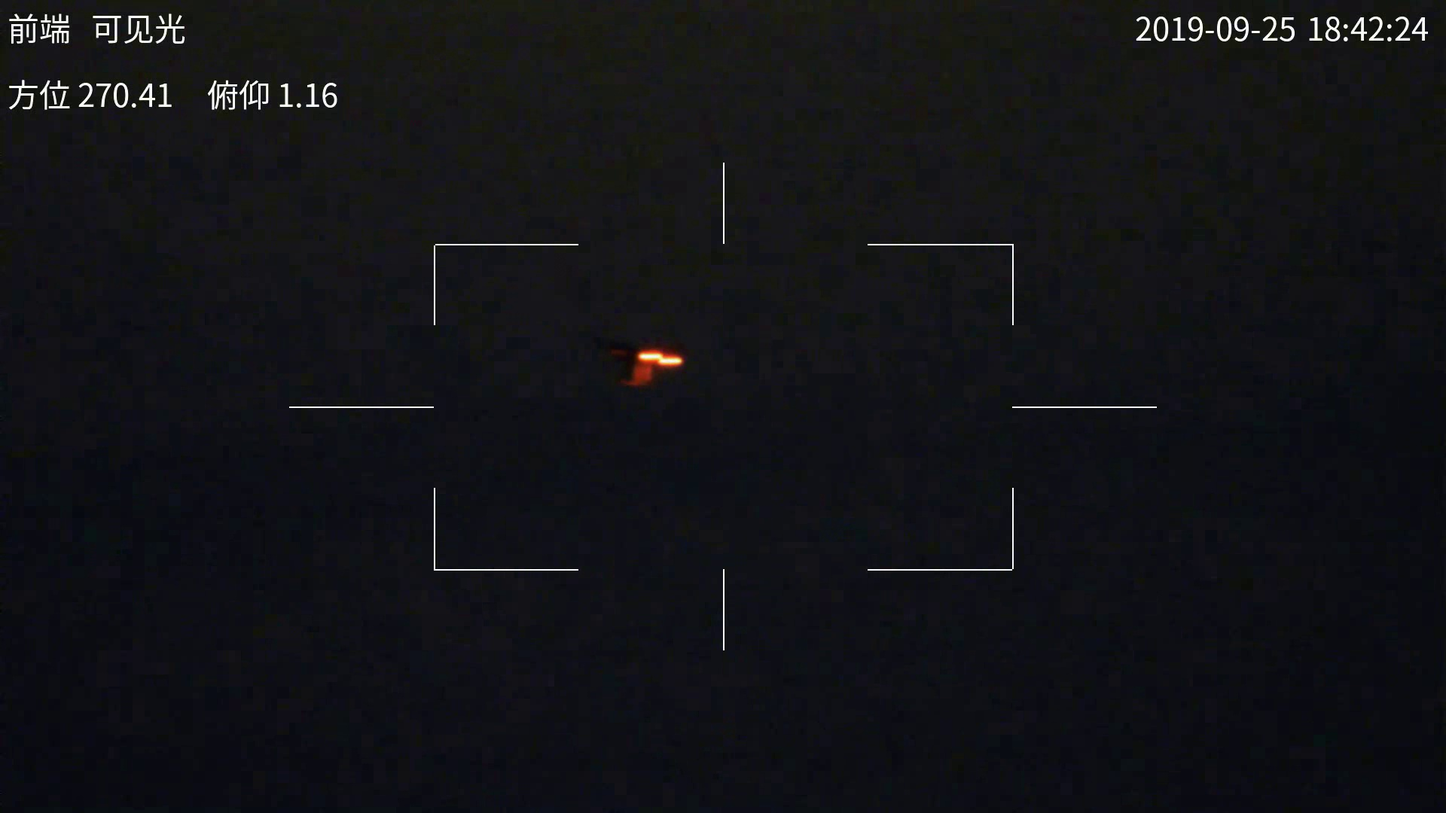drone_other: (591, 336, 700, 393)
